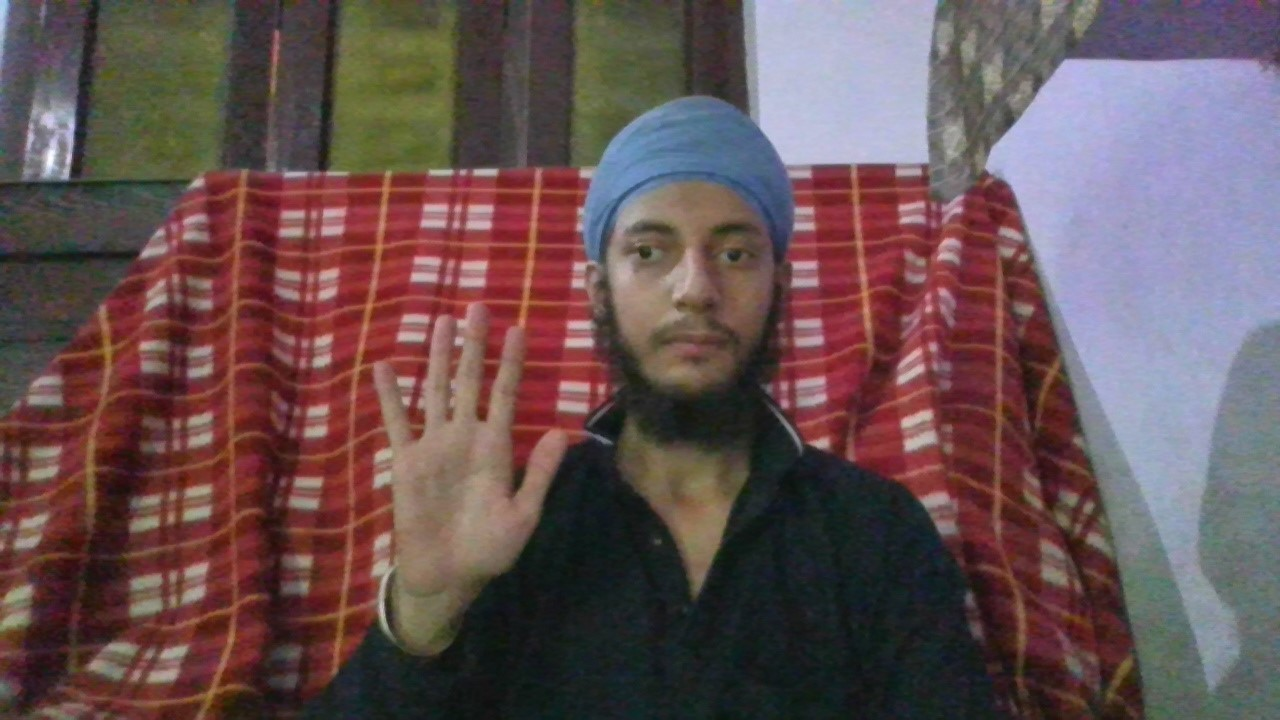Hello: (370, 299, 570, 590)
